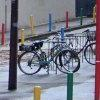bicycles: (17, 36, 76, 77)
